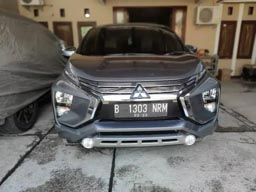plat: (110, 101, 169, 112)
